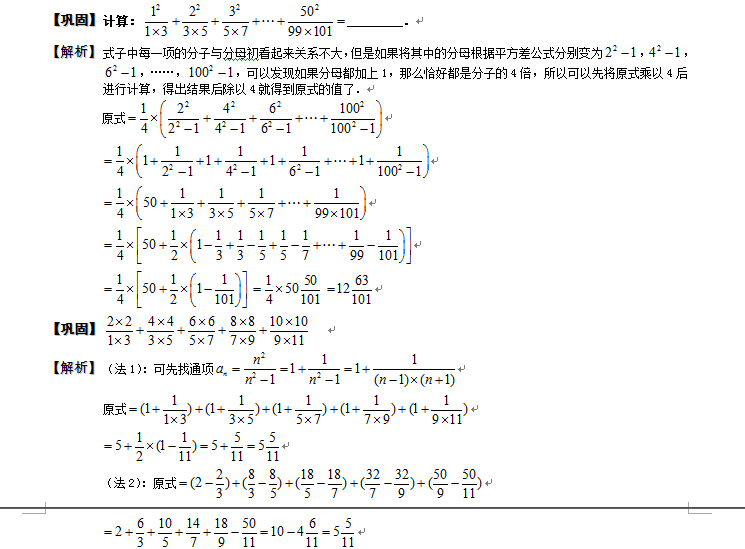division: (374, 363, 456, 375), (376, 156, 424, 168), (287, 18, 334, 27), (312, 198, 357, 207), (221, 17, 251, 30), (289, 155, 321, 167), (159, 155, 191, 167), (308, 364, 340, 375), (268, 328, 308, 336), (224, 158, 259, 167), (430, 404, 464, 413), (295, 406, 324, 416), (144, 328, 176, 337), (228, 325, 258, 334), (180, 17, 209, 26), (103, 326, 131, 335), (169, 199, 193, 209), (208, 200, 234, 208), (214, 284, 234, 294), (227, 407, 255, 414), (365, 407, 392, 414), (162, 406, 188, 413), (299, 286, 321, 294), (242, 529, 259, 538), (350, 287, 375, 293), (139, 19, 168, 24), (364, 480, 380, 489), (178, 443, 192, 453), (463, 480, 478, 489), (349, 241, 362, 251), (266, 442, 280, 451), (379, 242, 397, 249), (431, 480, 446, 488), (182, 529, 201, 535), (304, 530, 320, 537), (329, 480, 343, 488), (229, 444, 245, 451), (155, 530, 173, 536), (341, 529, 356, 536), (395, 481, 412, 487), (268, 480, 279, 488), (134, 530, 145, 537), (299, 482, 314, 487), (216, 482, 225, 487)
square: (272, 97, 284, 108), (182, 96, 192, 109), (152, 1, 164, 11), (312, 1, 322, 12), (609, 42, 620, 51), (172, 117, 180, 129), (350, 118, 359, 128), (653, 42, 663, 51), (195, 2, 203, 12), (234, 2, 242, 12), (358, 99, 366, 109), (258, 349, 265, 359), (317, 370, 324, 380), (220, 119, 227, 128), (251, 370, 258, 379), (231, 162, 237, 172), (112, 62, 118, 72), (267, 120, 274, 128), (230, 99, 236, 108), (397, 162, 403, 171), (295, 163, 301, 172), (208, 62, 214, 71), (169, 162, 175, 168)
